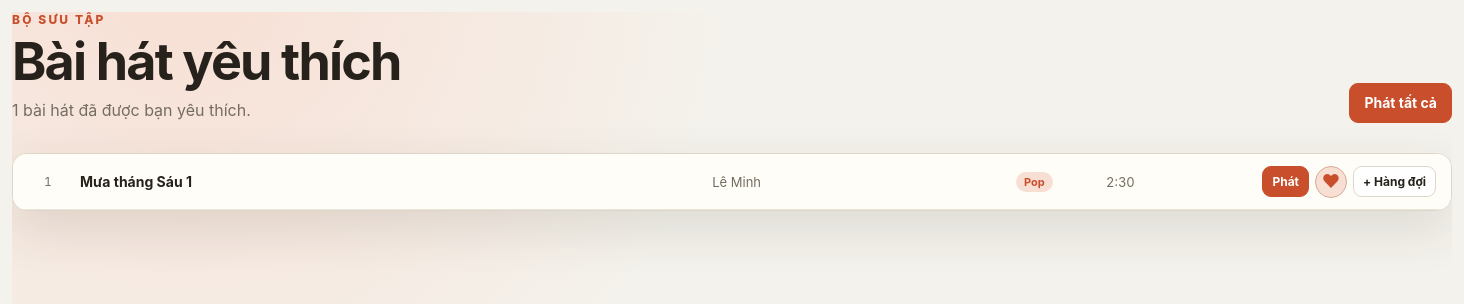
FavoritesPage › bỏ yêu thích thì bài hát biến mất khỏi trang
Click the button named "Bỏ yêu thích" at [1331, 182], box top-left (1315, 166), bottom-right (1347, 198)
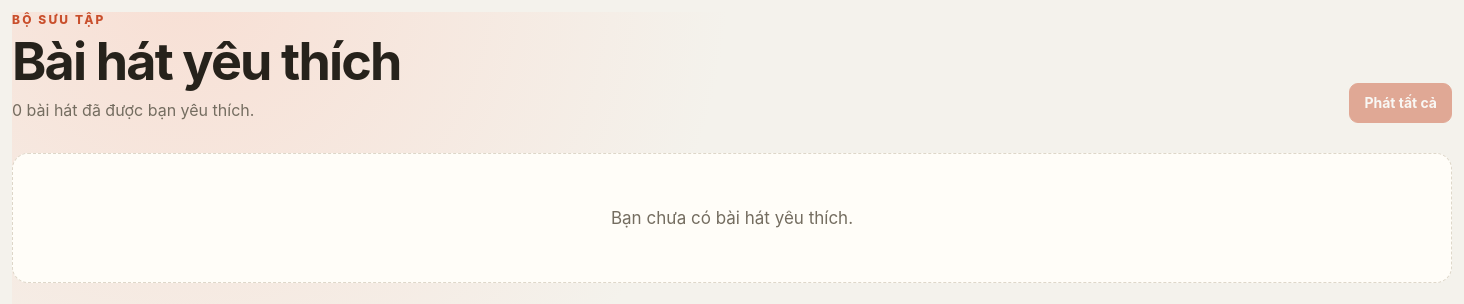
expect the text "Mưa tháng Sáu 1" is gone: met
expect the text "Bạn chưa có bài hát yêu thích." is shown: met, box top-left (12, 153), bottom-right (1452, 283)
